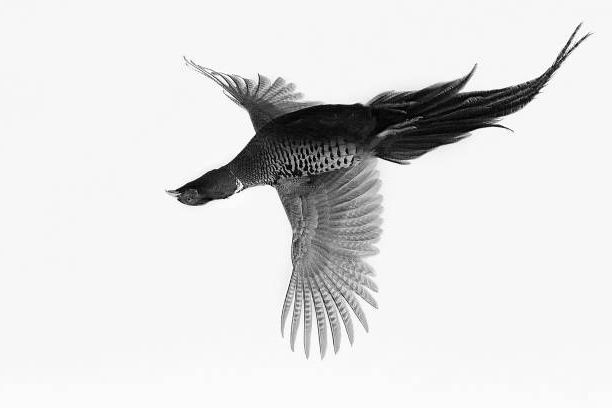Bird: (161, 15, 595, 361)
